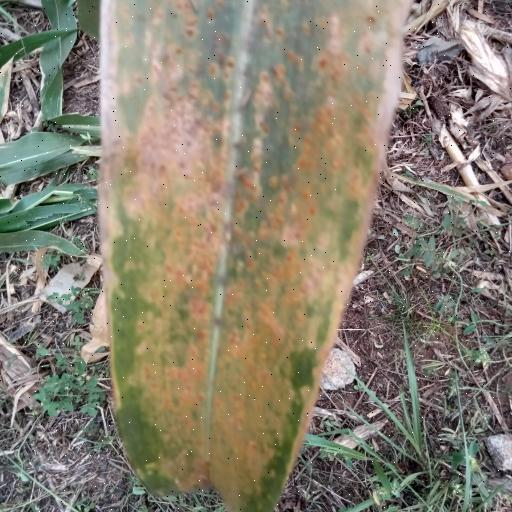Corn_Rust: (86, 0, 429, 512)
